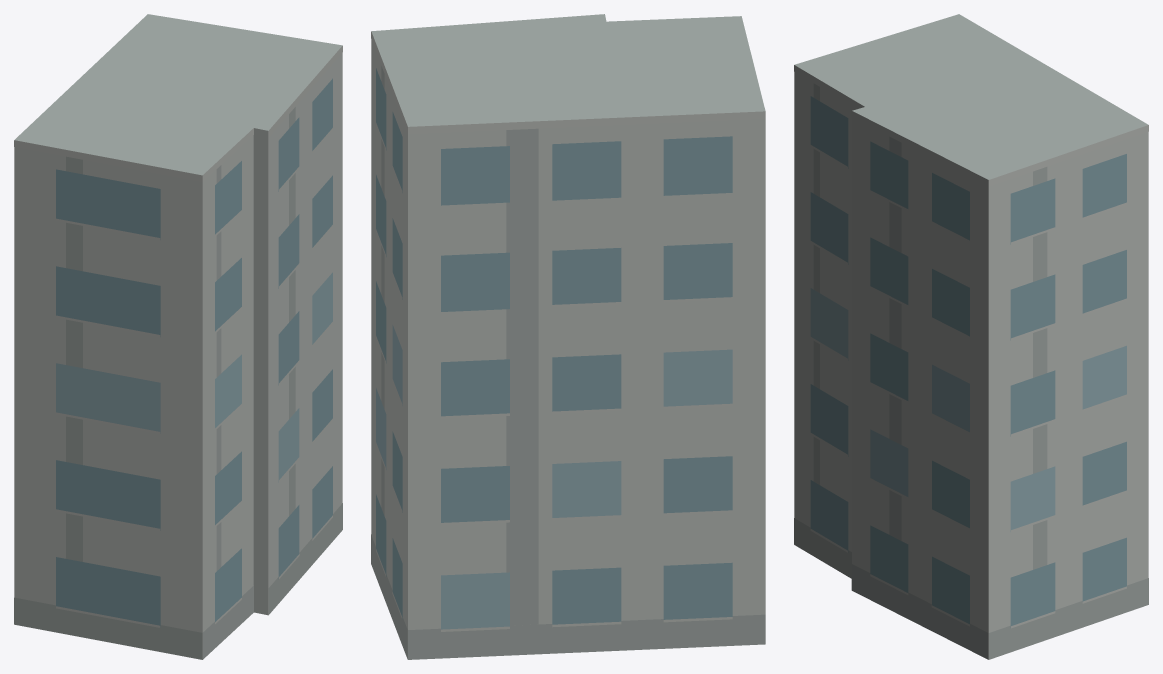
Rendered from survey-upis-32978607.glb.
The picture shows the model from 3 angles, left to right: view 1: azimuth 30°, elevation 25°; view 2: azimuth 150°, elevation 25°; view 3: azimuth 270°, elevation 25°; orthographic projection. The views are drawn at different scales.
Visible parts, largest first — view 1: survey-upis-32978607.tmp; view 2: survey-upis-32978607.tmp; view 3: survey-upis-32978607.tmp.
Boxes of the visible parts, <box> form: survey-upis-32978607.tmp: <box>14,14,342,659</box>; survey-upis-32978607.tmp: <box>371,14,765,659</box>; survey-upis-32978607.tmp: <box>794,14,1148,659</box>.
Bounding box in the file's own units: 12.86 × 17.32 × 11.61.
